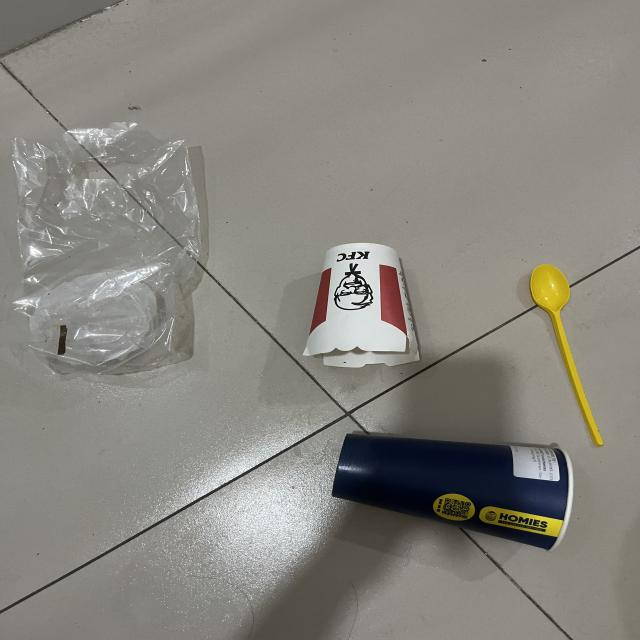bag: (10, 122, 202, 376)
cardboard box: (303, 243, 421, 368)
plastic glass: (332, 433, 574, 553)
plastic utensil: (530, 264, 604, 447)
